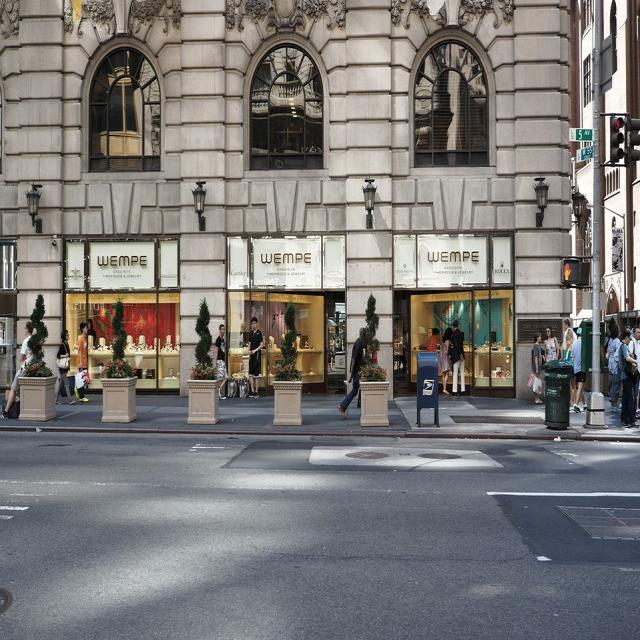body: (0, 320, 37, 421), (337, 326, 366, 419), (616, 327, 638, 429), (569, 325, 590, 415), (54, 328, 77, 406), (561, 317, 579, 412), (605, 322, 623, 413), (526, 330, 546, 405), (247, 315, 264, 400), (212, 321, 230, 401), (448, 317, 466, 397), (73, 320, 90, 404), (607, 322, 623, 411), (560, 327, 577, 404), (627, 325, 640, 421), (612, 324, 637, 370), (438, 325, 454, 395), (327, 332, 344, 373), (542, 324, 560, 362), (364, 334, 379, 376), (85, 317, 97, 365), (426, 326, 440, 352), (634, 315, 640, 345)
